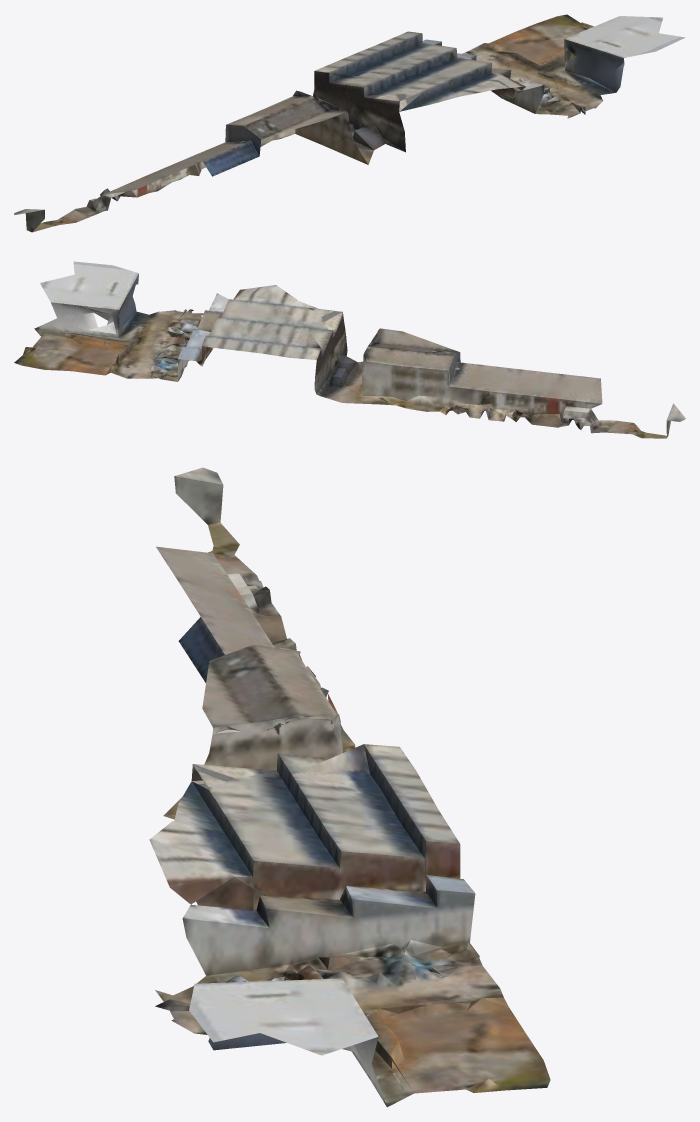
The model's file is Tile_006_014_L17.gltf.
The picture shows the model from 3 angles, top to bottom: view 1: azimuth 30°, elevation 25°; view 2: azimuth 150°, elevation 25°; view 3: azimuth 270°, elevation 25°; orthographic projection. The views are drawn at different scales.
Parts seen in each view (by area): view 1: Tile_+006_+014_L17; view 2: Tile_+006_+014_L17; view 3: Tile_+006_+014_L17.
Part boxes in pixels (bbox=[...]): Tile_+006_+014_L17: bbox=[14, 14, 685, 232]; Tile_+006_+014_L17: bbox=[14, 261, 685, 438]; Tile_+006_+014_L17: bbox=[149, 467, 550, 1107].
Size of the model in its own units: 178 by 12.47 by 50.08.
Materials: 1 (1 with a texture image).
